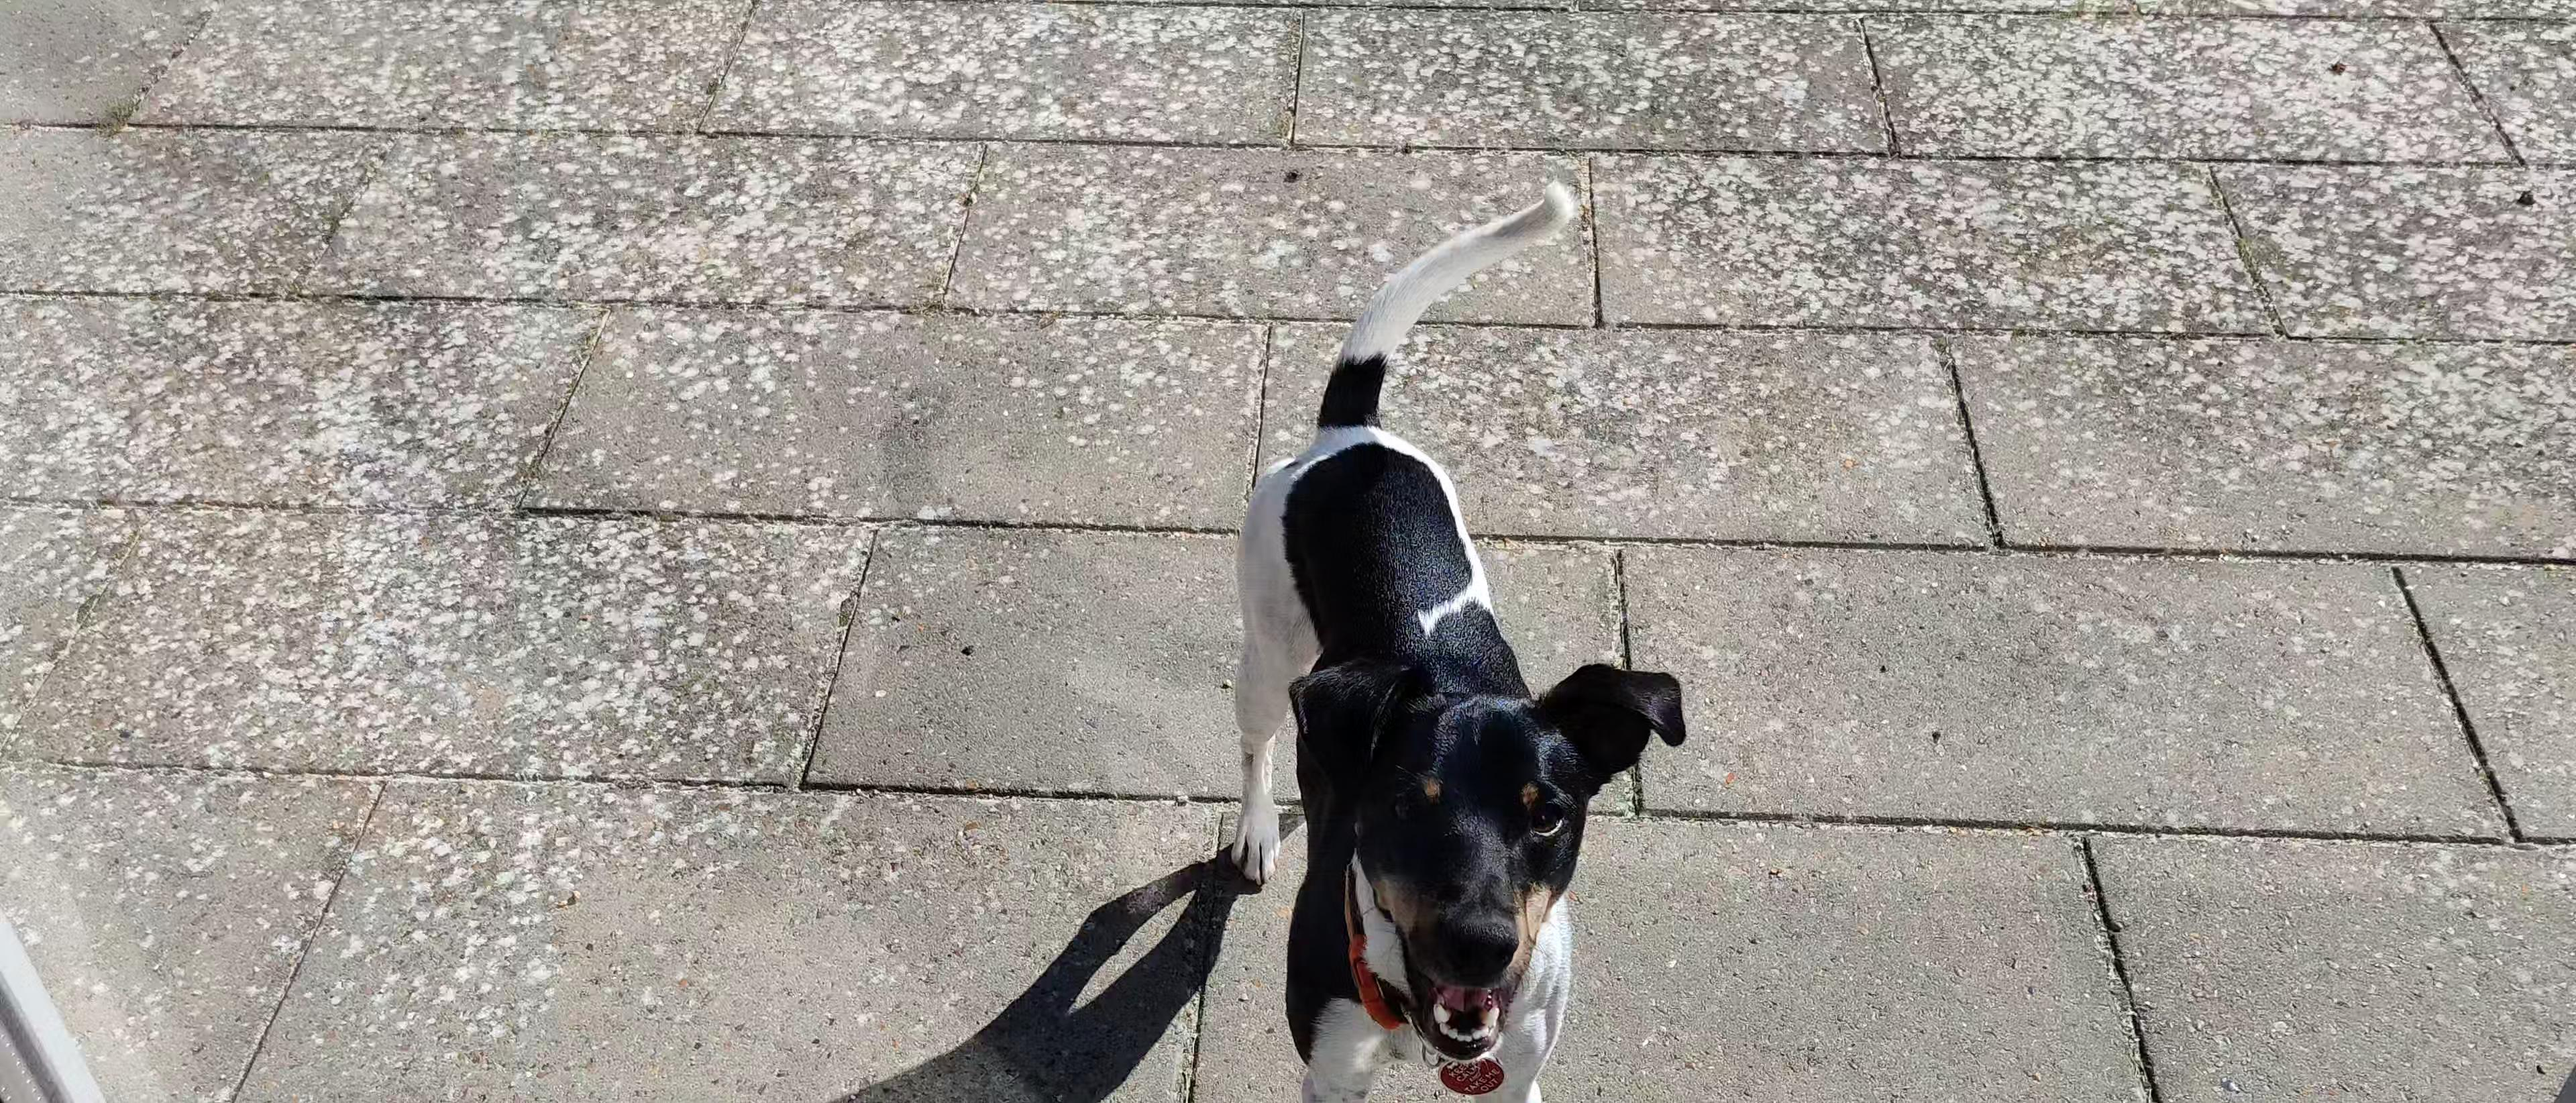Dog: (1212, 176, 1694, 1103)
